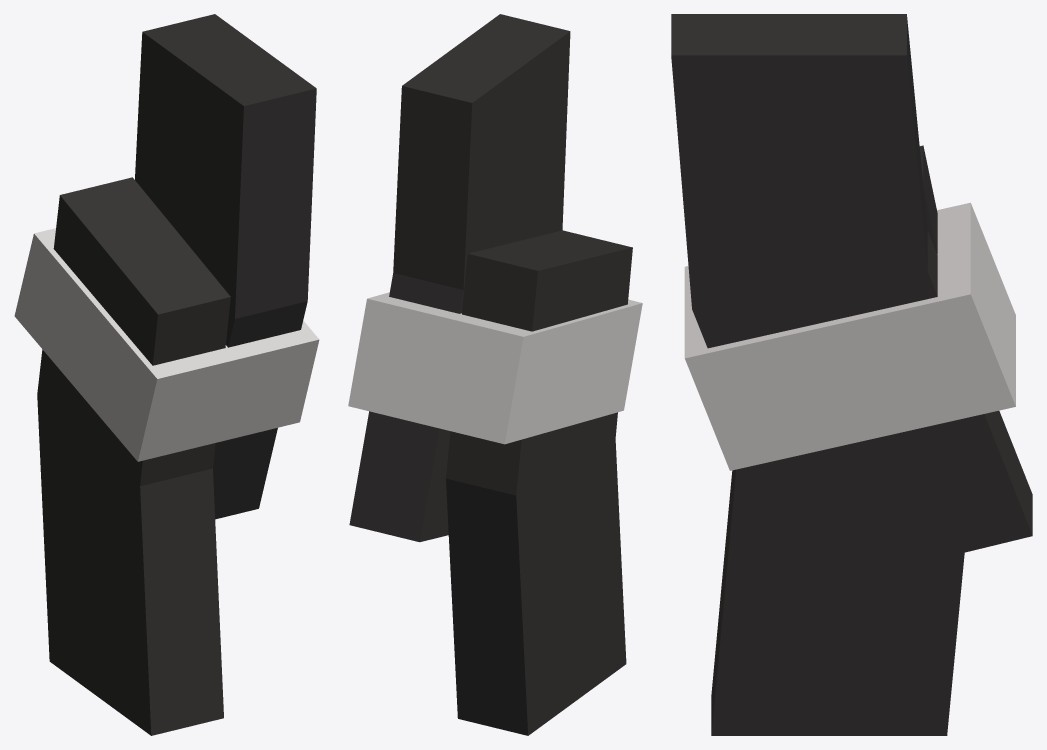
File: RifleTapemag.FBX
The picture shows the model from 3 angles, left to right: view 1: azimuth 30°, elevation 25°; view 2: azimuth 150°, elevation 25°; view 3: azimuth 270°, elevation 25°; orthographic projection. The views are drawn at different scales.
Visible parts, largest first — view 1: AutoRifle47tapemag; view 2: AutoRifle47tapemag; view 3: AutoRifle47tapemag.
Part boxes in pixels (bbox=[...]): AutoRifle47tapemag: bbox=[14, 14, 319, 735]; AutoRifle47tapemag: bbox=[348, 14, 642, 735]; AutoRifle47tapemag: bbox=[671, 14, 1032, 735].
Size of the model in its own units: 14.03 by 23.39 by 51.61.
